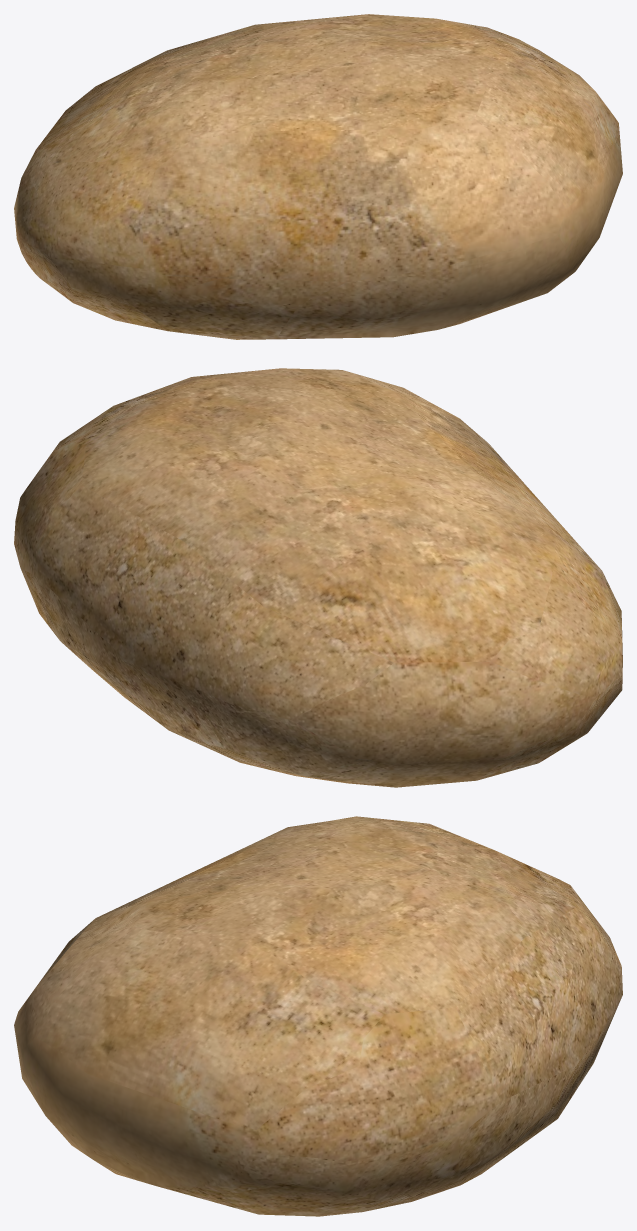
Rendered from pebble-0.glb.
3 views of the same model, one above another, from view 1: azimuth 30°, elevation 25°; view 2: azimuth 150°, elevation 25°; view 3: azimuth 270°, elevation 25° (orthographic). The views are drawn at different scales.
Parts seen in each view (by area): view 1: tripo_node_3c70e1b2-f517-4ff0-a827-04f095e64d69; view 2: tripo_node_3c70e1b2-f517-4ff0-a827-04f095e64d69; view 3: tripo_node_3c70e1b2-f517-4ff0-a827-04f095e64d69.
Boxes of the visible parts, x1,y1,x2,y2 form: tripo_node_3c70e1b2-f517-4ff0-a827-04f095e64d69: (14,14,622,339); tripo_node_3c70e1b2-f517-4ff0-a827-04f095e64d69: (14,368,622,787); tripo_node_3c70e1b2-f517-4ff0-a827-04f095e64d69: (14,816,622,1216).
Bounding box in the file's own units: 0.5453 × 0.2352 × 0.4644.
1 material, 1 textured.
